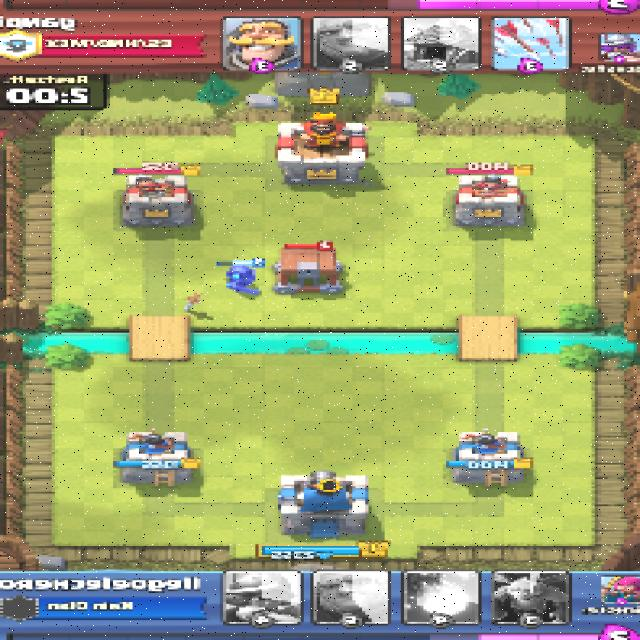Player-GoblinCage: (274, 248, 337, 293)
Player-MiniPEKKA: (224, 266, 258, 292)
